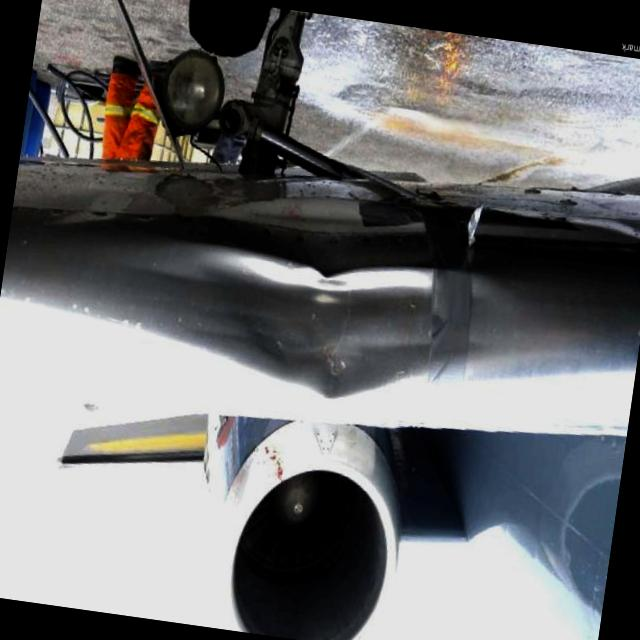dent: (96, 230, 509, 430)
